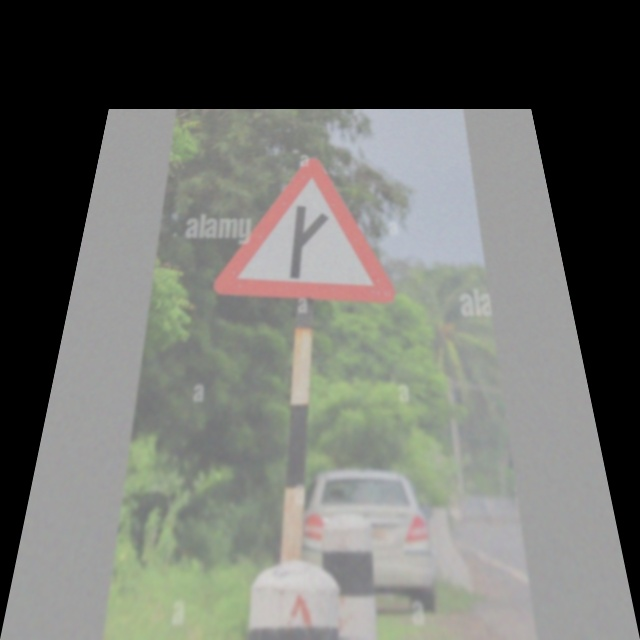Y_Intersection: (212, 156, 404, 307)
